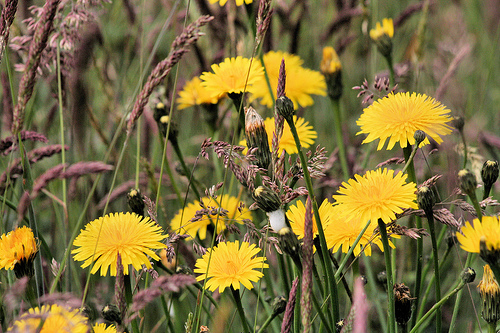dandelion: (68, 203, 174, 290), (353, 84, 456, 155), (322, 169, 430, 229), (184, 235, 275, 302), (165, 184, 256, 238), (188, 55, 272, 108)
